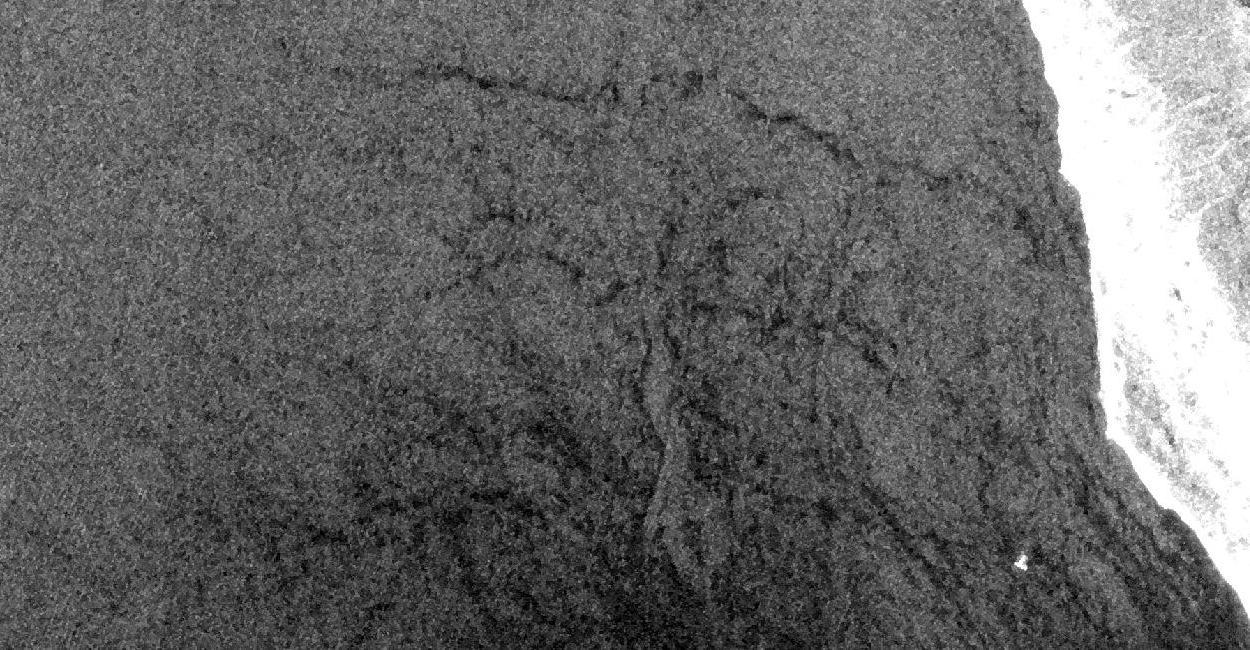Look-alike: (126, 38, 1244, 650)
